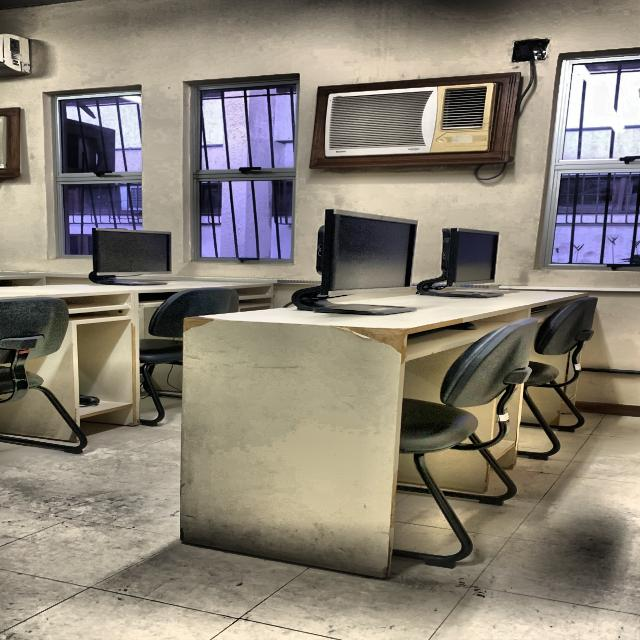cadeira: (396, 321, 543, 569), (0, 293, 96, 454), (137, 286, 244, 429), (517, 298, 599, 462)
